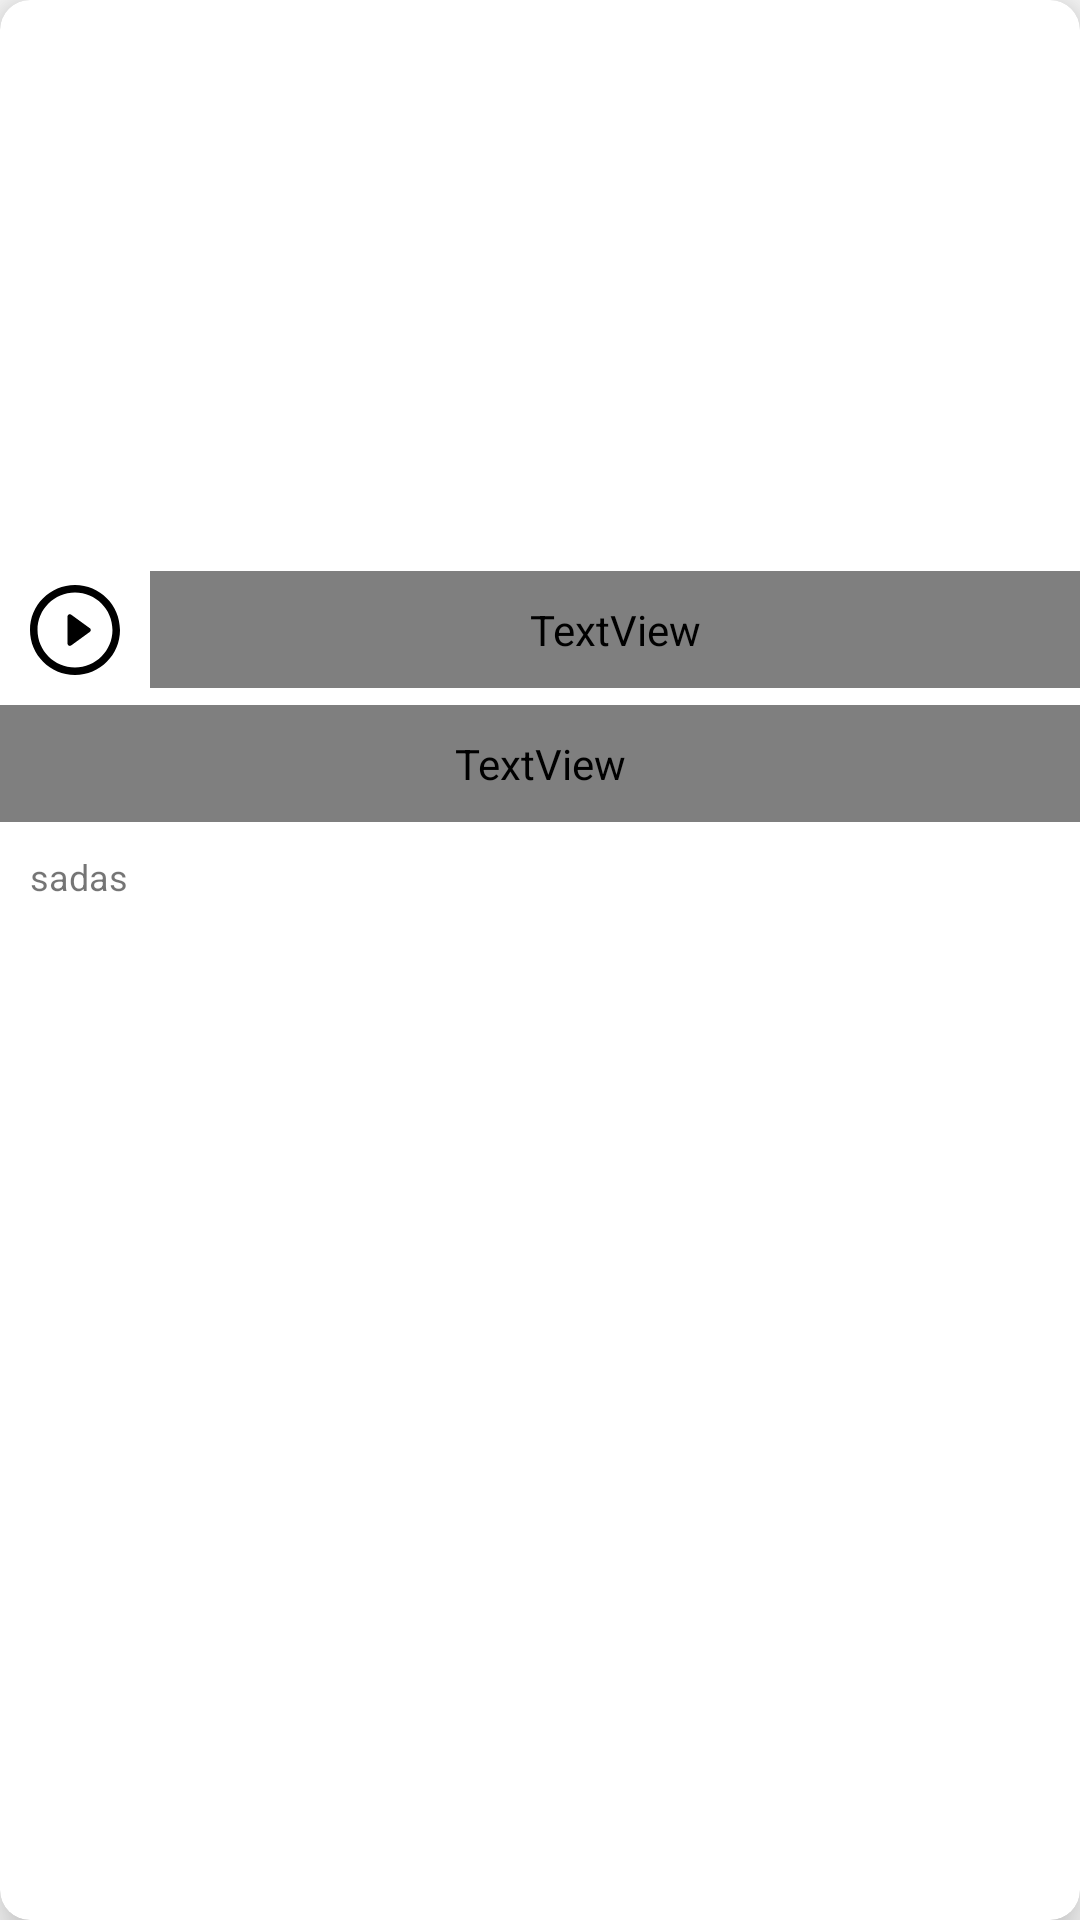

Named icons in this screenshot (1080px×1920px) and their bounding boxes, (x1, y1, x2, y2):
play: (30, 585, 120, 675)
